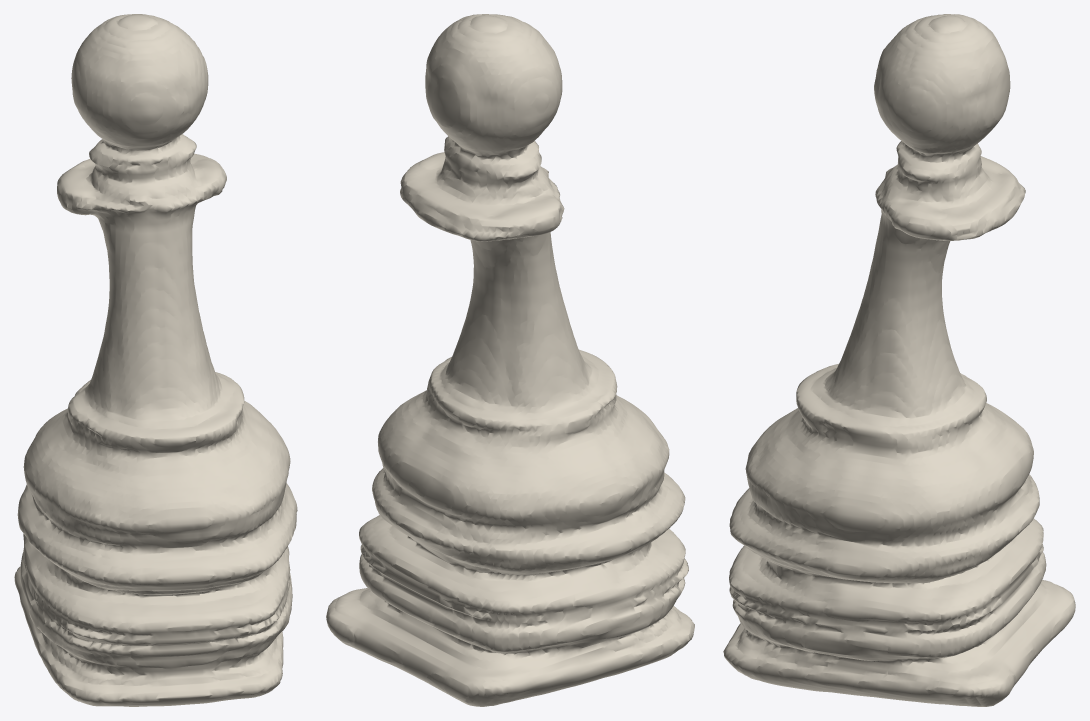
Rendered from pawn.glb.
3 renders of one model, left to right at view 1: azimuth 30°, elevation 25°; view 2: azimuth 150°, elevation 25°; view 3: azimuth 270°, elevation 25°, orthographic. The views are drawn at different scales.
Visible parts, largest first — view 1: pawn; view 2: pawn; view 3: pawn.
Boxes of the visible parts, x1,y1,x2,y2 form: pawn: (14, 14, 297, 706); pawn: (326, 14, 694, 706); pawn: (723, 14, 1075, 706).
Size of the model in its own units: 0.4682 by 1.02 by 0.5079.
